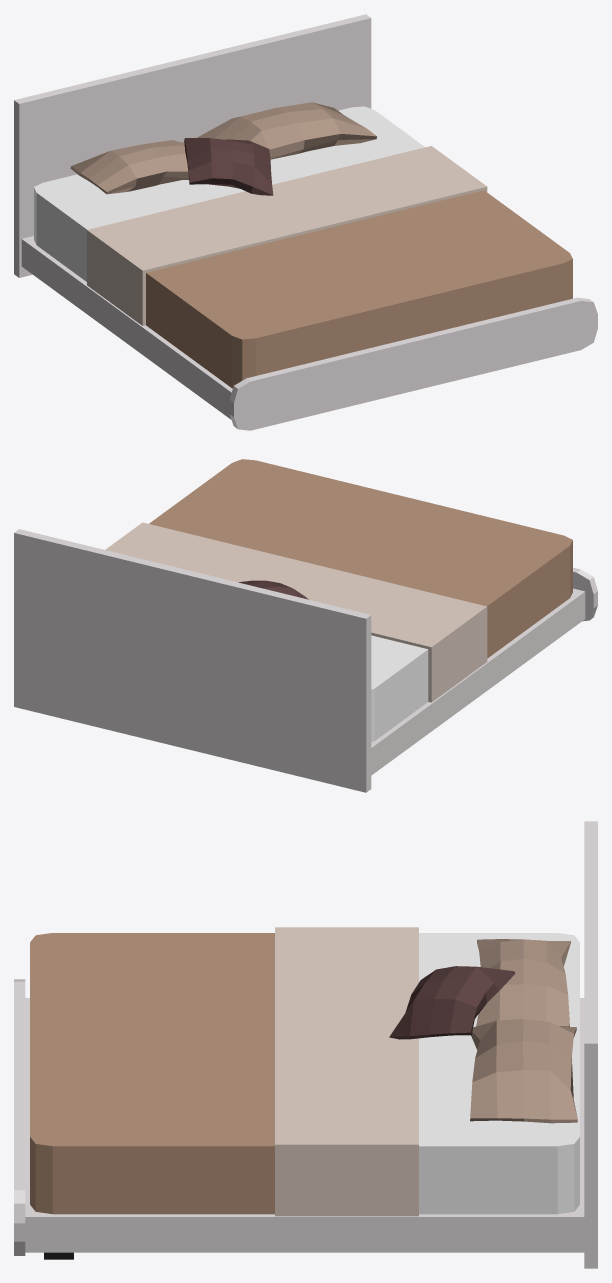
Rendered from bed.fbx.
The picture shows the model from 3 angles, top to bottom: view 1: azimuth 30°, elevation 25°; view 2: azimuth 150°, elevation 25°; view 3: azimuth 270°, elevation 25°; orthographic projection. The views are drawn at different scales.
Visible parts, largest first — view 1: bed; view 2: bed; view 3: bed.
Boxes of the visible parts, left/top/right/bottom form: bed: left=14, top=14, right=597, bottom=430; bed: left=14, top=459, right=597, bottom=792; bed: left=14, top=821, right=597, bottom=1268.
Size of the model in its own units: 0.9681 by 0.4422 by 1.04.
1 material, 1 textured.
